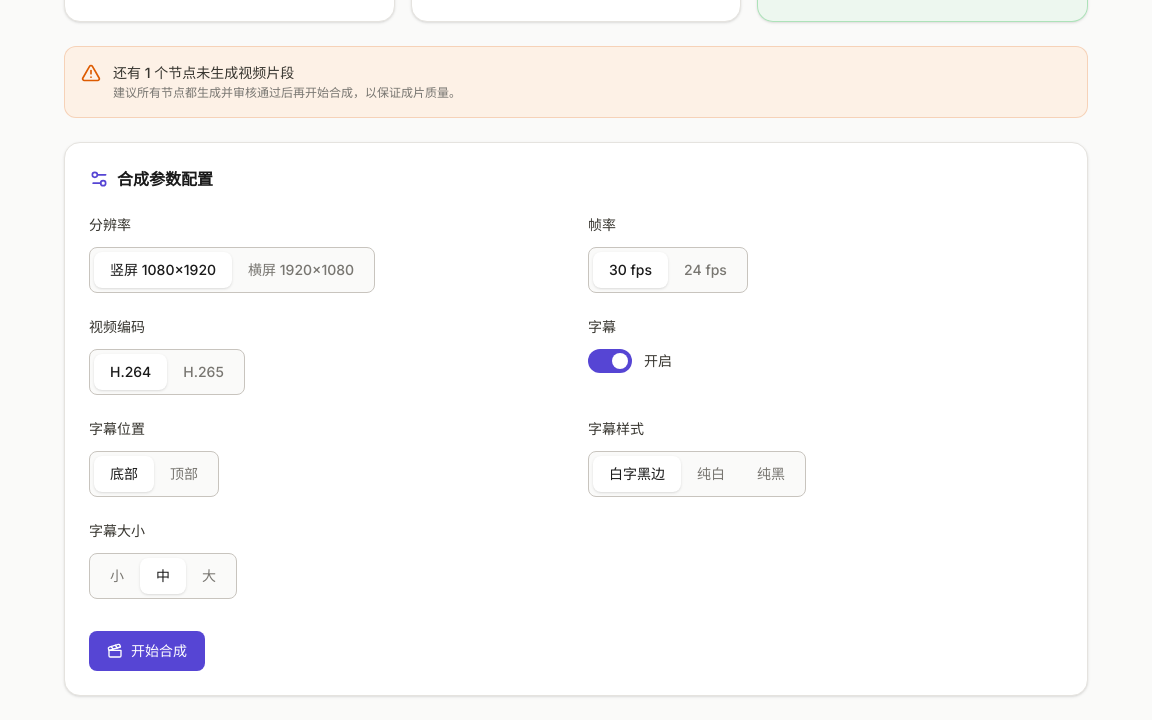
it: RenderPage › should show failure state and retry button
(page scrolled)
Click the button "开始合成".
click(147, 651)  # box left=89, top=631, right=205, bottom=671
(page scrolled)
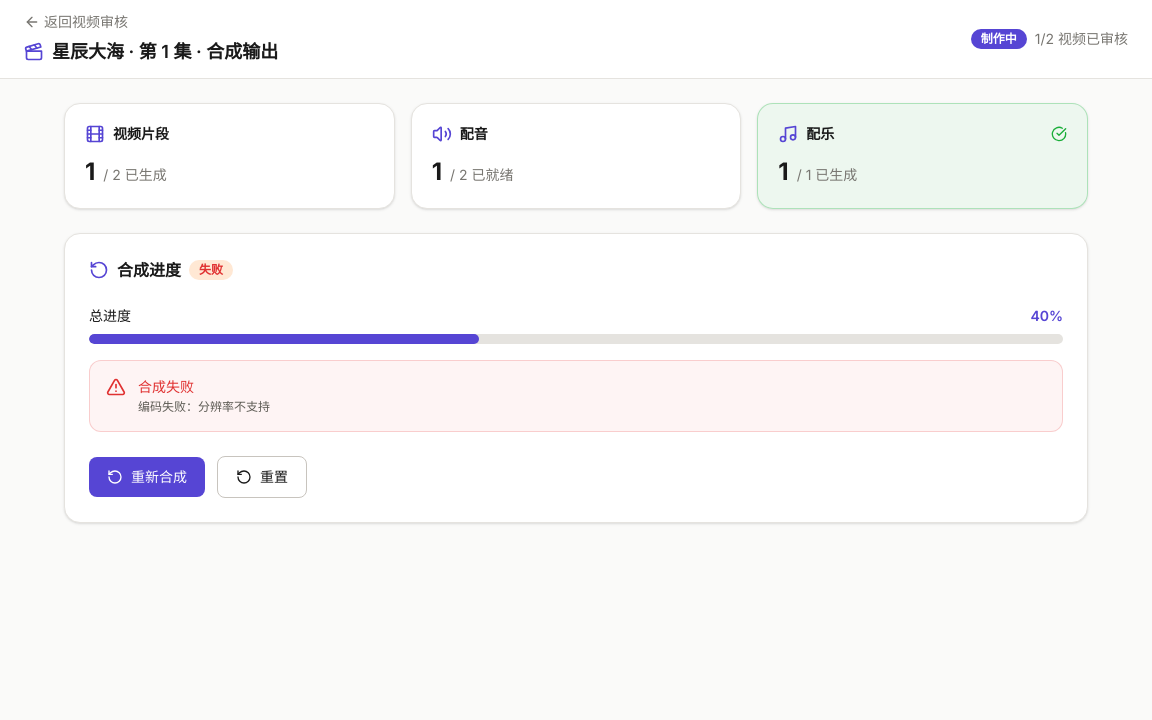
Check: the text "编码失败：分辨率不支持" is shown, box left=138, top=399, right=270, bottom=415
Check: the button "重新合成" is shown, box left=89, top=457, right=205, bottom=497
